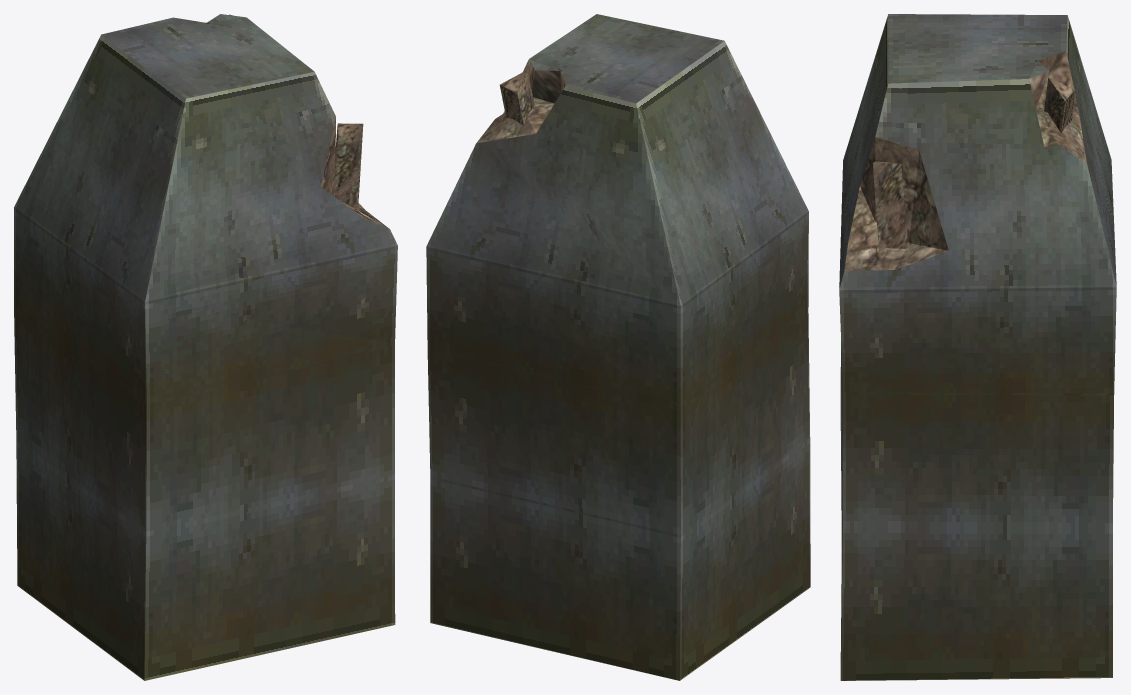
Rendered from C1SMTKTRPA_H.obj.
The picture shows the model from 3 angles, left to right: view 1: azimuth 30°, elevation 25°; view 2: azimuth 150°, elevation 25°; view 3: azimuth 270°, elevation 25°; orthographic projection. The views are drawn at different scales.
Parts seen in each view (by area): view 1: Node 0; view 2: Node 0; view 3: Node 0.
Boxes of the visible parts, x1,y1,x2,y2 form: Node 0: (14, 14, 397, 680); Node 0: (426, 14, 810, 680); Node 0: (839, 14, 1116, 680).
Bounding box in the file's own units: 2.34 × 4.9 × 2.15.
Materials: 2 (2 with a texture image).
